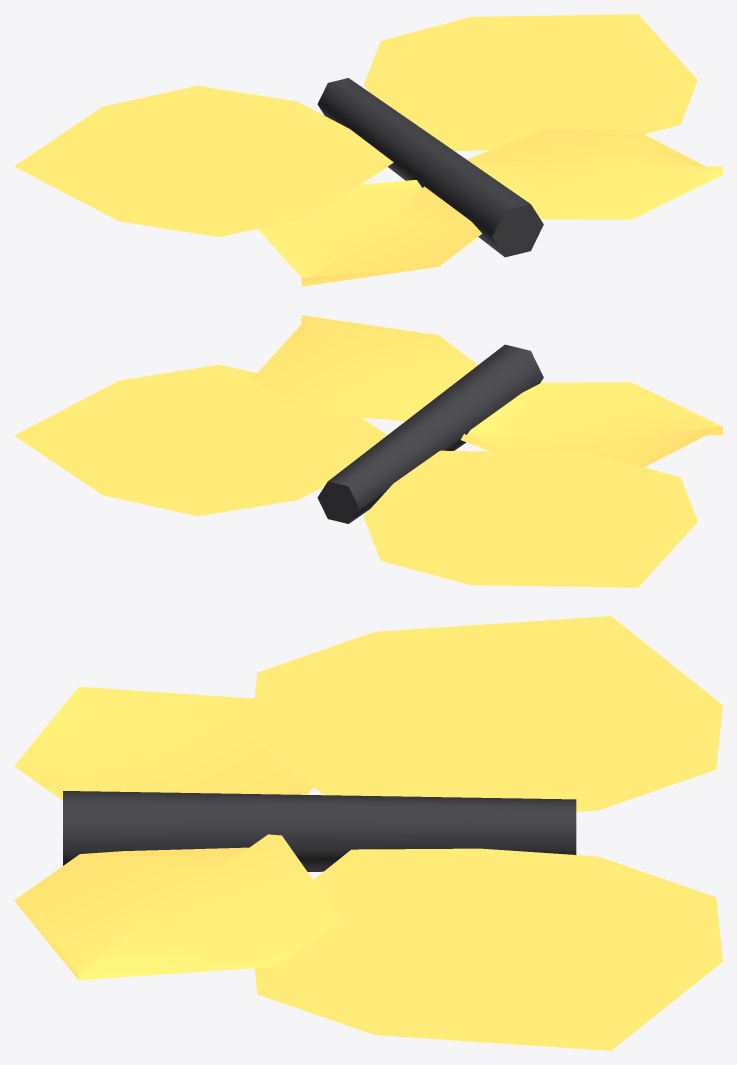
Rendered from schmetterling.glb.
3 renders of one model, top to bottom at view 1: azimuth 30°, elevation 25°; view 2: azimuth 150°, elevation 25°; view 3: azimuth 270°, elevation 25°, orthographic. The views are drawn at different scales.
Visible parts, largest first — view 1: schmetterling_lod0; view 2: schmetterling_lod0; view 3: schmetterling_lod0.
Boxes of the visible parts, x1,y1,x2,y2 form: schmetterling_lod0: (14,14,722,286); schmetterling_lod0: (14,315,722,587); schmetterling_lod0: (14,616,722,1050).
Size of what is drawn, in the model's own units: 1.2 by 0.0866 by 0.8286.
